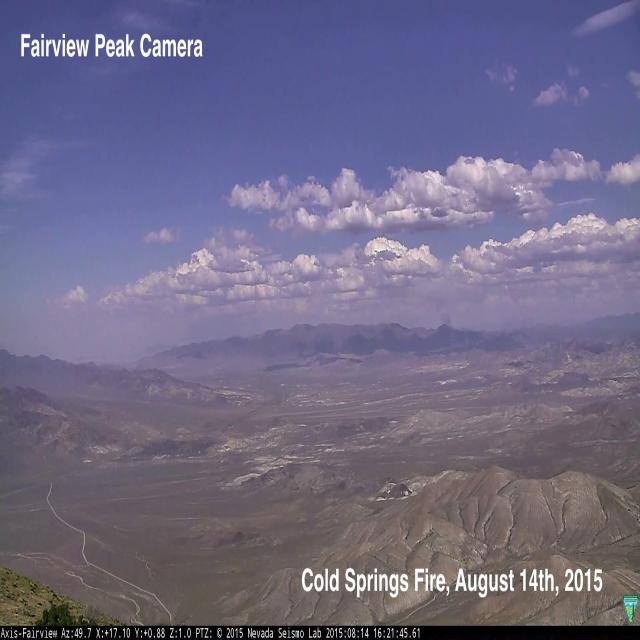smoke: (428, 289, 452, 327)
